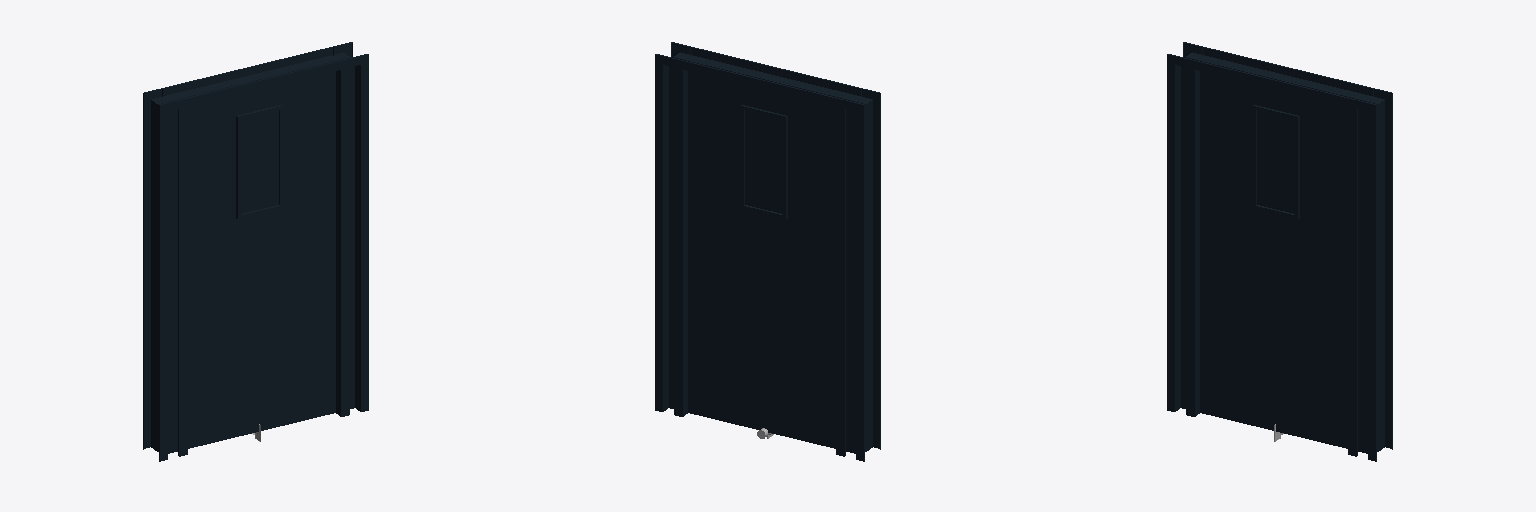
File: sgc_door_single_meshes.obj
3 renders of one model, left to right at view 1: azimuth 30°, elevation 25°; view 2: azimuth 150°, elevation 25°; view 3: azimuth 330°, elevation 25°, orthographic.
Parts seen in each view (by area): view 1: Door_Wide_Low, Door_Low, Door_Frame_Wide_Low, Door_Frame_Low, Door_Windowed_Low, Door_Window_Frame_Low; view 2: Door_Low, Door_Frame_Wide_Low, Door_Windowed_Low, Door_Wide_Low, Door_Frame_Low; view 3: Door_Low, Door_Frame_Wide_Low, Door_Wide_Low, Door_Frame_Low, Door_Windowed_Low, Door_Window_Frame_Low.
Part boxes in pixels (bbox=[...]): Door_Wide_Low: bbox=[158, 66, 354, 453]; Door_Low: bbox=[188, 71, 335, 447]; Door_Frame_Wide_Low: bbox=[143, 42, 368, 461]; Door_Frame_Low: bbox=[162, 47, 349, 456]; Door_Windowed_Low: bbox=[188, 71, 335, 445]; Door_Window_Frame_Low: bbox=[236, 105, 283, 218]; Door_Low: bbox=[688, 71, 835, 448]; Door_Frame_Wide_Low: bbox=[655, 42, 880, 461]; Door_Windowed_Low: bbox=[688, 71, 835, 448]; Door_Wide_Low: bbox=[669, 66, 865, 453]; Door_Frame_Low: bbox=[674, 47, 861, 456]; Door_Low: bbox=[1200, 71, 1347, 448]; Door_Frame_Wide_Low: bbox=[1167, 42, 1392, 461]; Door_Wide_Low: bbox=[1181, 66, 1377, 453]; Door_Frame_Low: bbox=[1186, 47, 1373, 456]; Door_Windowed_Low: bbox=[1200, 71, 1347, 448]; Door_Window_Frame_Low: bbox=[1252, 105, 1299, 218].
Bounding box in the file's own units: 19.51 × 32.46 × 2.74.